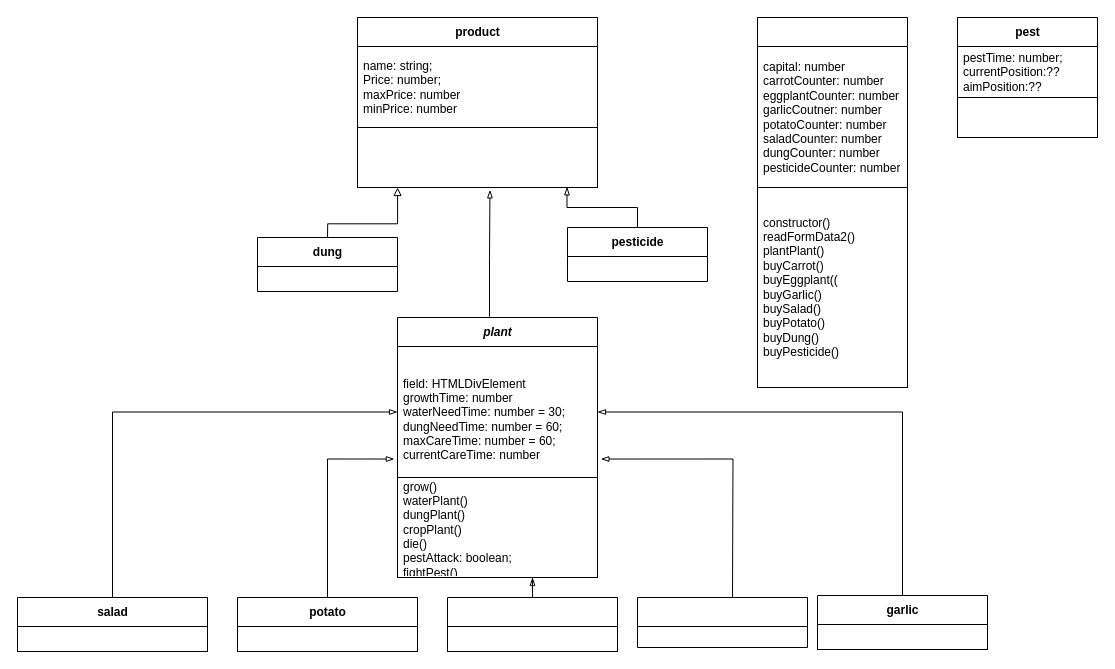
This 1115x669 diagram has some shape labels left out. The box of each missing label's shape, as (x1, y1, x2, y2) in pixels:
attackPlant(??): (956, 96, 1098, 138)
carrot: (446, 596, 618, 652)
constructor() readFormData1() changePrice() buyProduct(): (356, 126, 598, 188)
eggplant: (636, 596, 808, 648)
storage: (756, 16, 908, 188)
